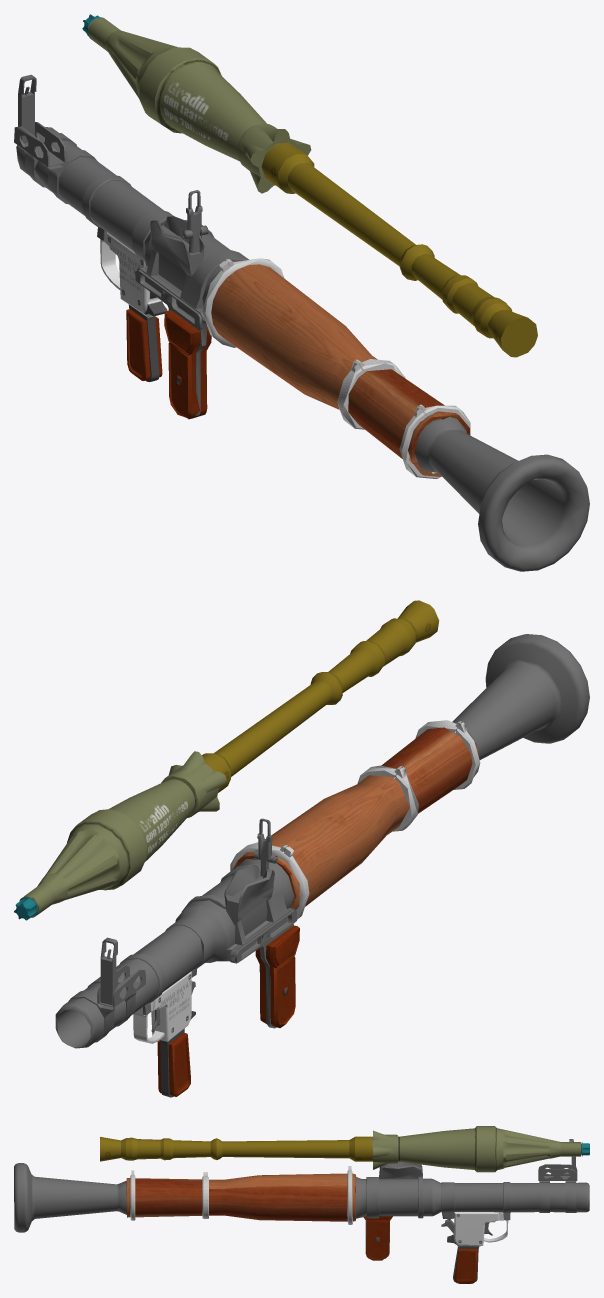
The model's file is rpg7.glb.
3 views of the same model, one above another, from view 1: azimuth 30°, elevation 25°; view 2: azimuth 150°, elevation 25°; view 3: azimuth 270°, elevation 25° (orthographic). The views are drawn at different scales.
Parts seen in each view (by area): view 1: pCube12, pCylinder8; view 2: pCube12, pCylinder8; view 3: pCube12, pCylinder8.
Part boxes in pixels (x1,y1,x2,y2): pCube12: [14, 74, 589, 571]; pCylinder8: [82, 14, 537, 357]; pCube12: [55, 634, 589, 1097]; pCylinder8: [14, 600, 439, 920]; pCube12: [14, 1139, 589, 1283]; pCylinder8: [100, 1126, 589, 1172].
Bounding box in the file's own units: 0.2124 × 0.4223 × 1.3.
Materials: 6 (6 with a texture image).
